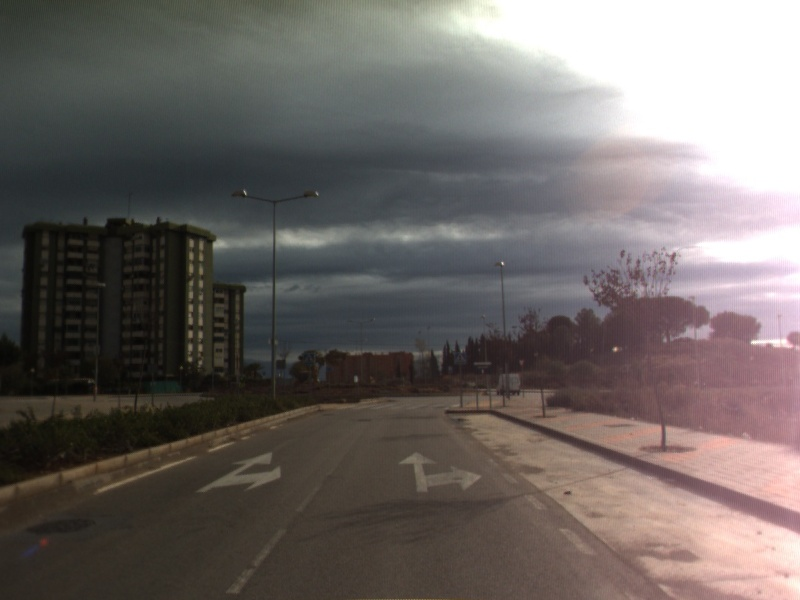STRAIGHT_RIGHT: (194, 450, 283, 495), (396, 450, 485, 494)
